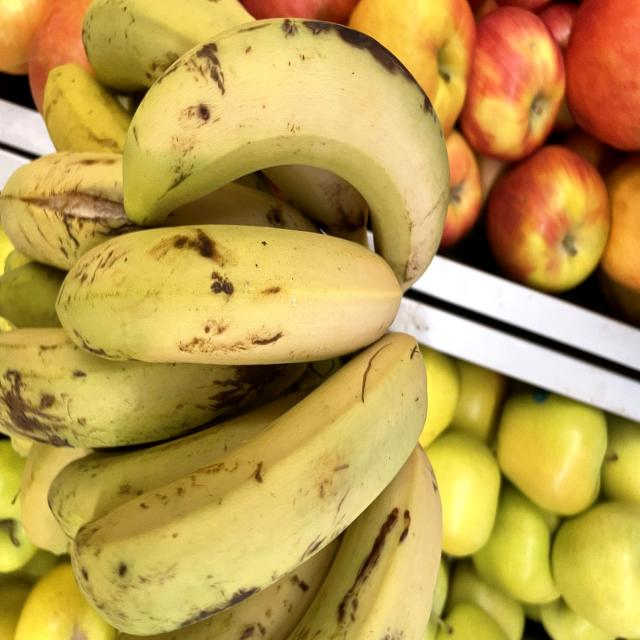banana: (72, 322, 455, 628), (114, 20, 454, 274), (46, 202, 409, 368)
